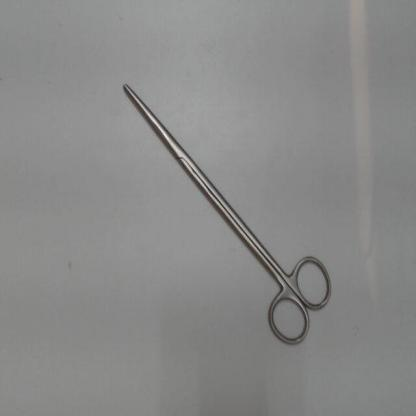9 Metzenbaum Scissors: (118, 77, 336, 353)
